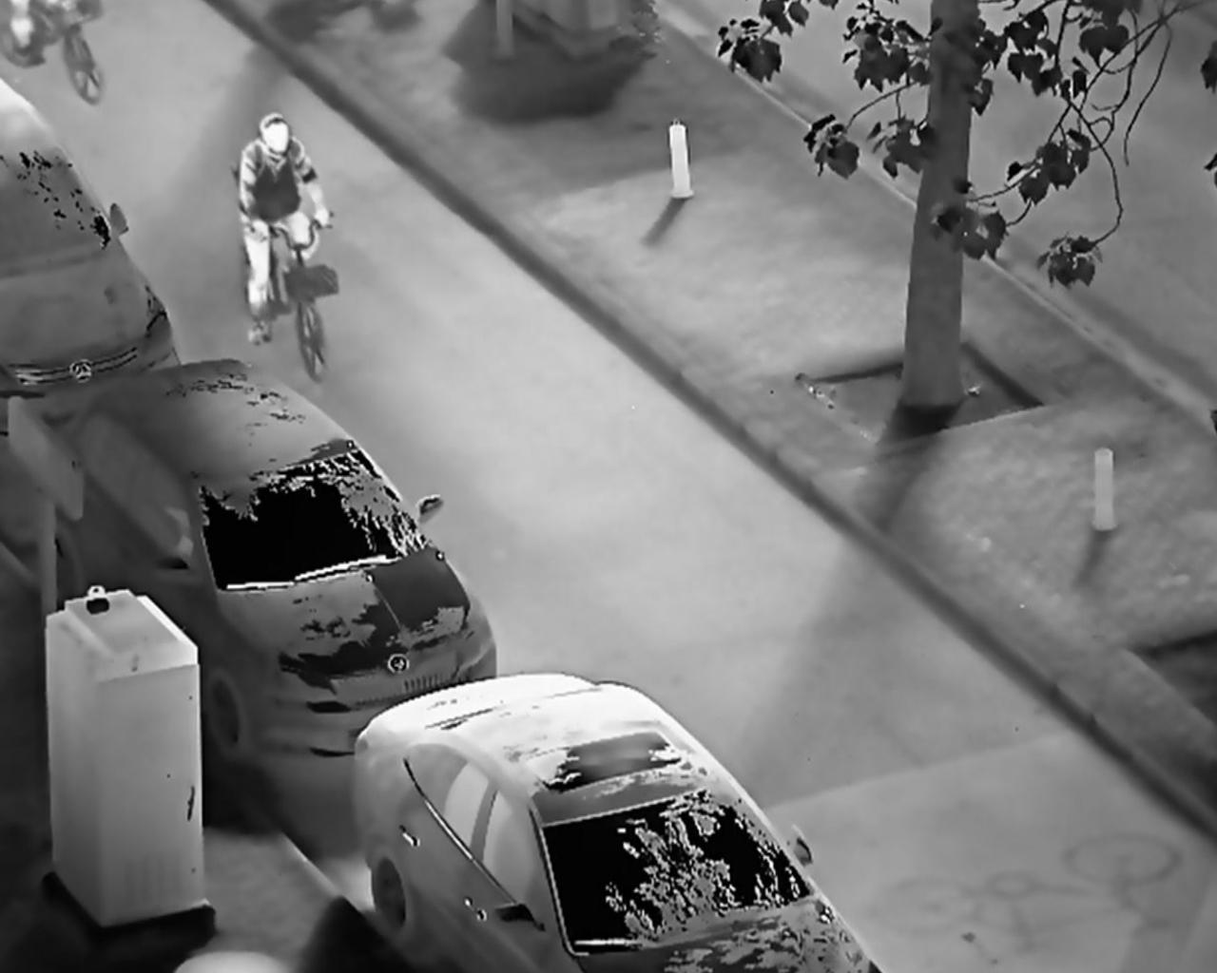person: (236, 109, 338, 349)
